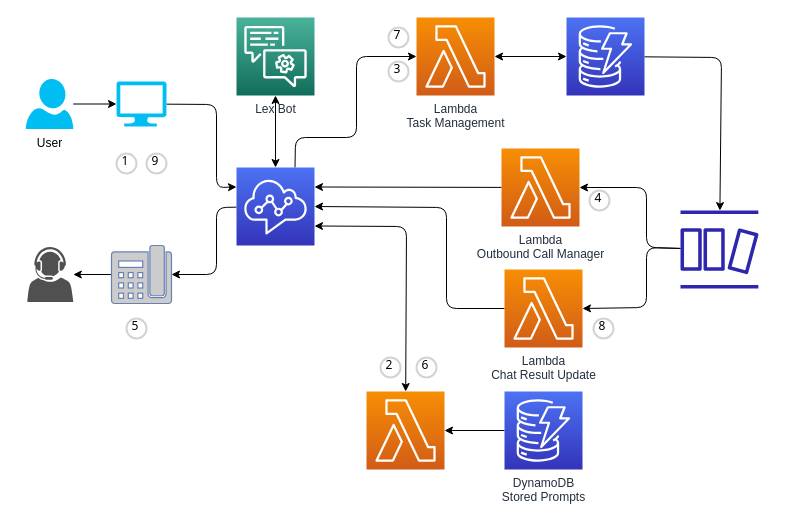
Image size: 788x523. Some labels were removed from this diagram. Each missing label, with the box of its shape:
Amazon Connect: (236, 166, 314, 246)
Chat Interface: (116, 81, 166, 126)
DyanmoDB Stream: (680, 210, 758, 288)
DyanmoDB Task Storage: (566, 16, 644, 96)
Lambda ChatGPT API: (366, 390, 444, 470)
Receptionist: (27, 246, 73, 302)
